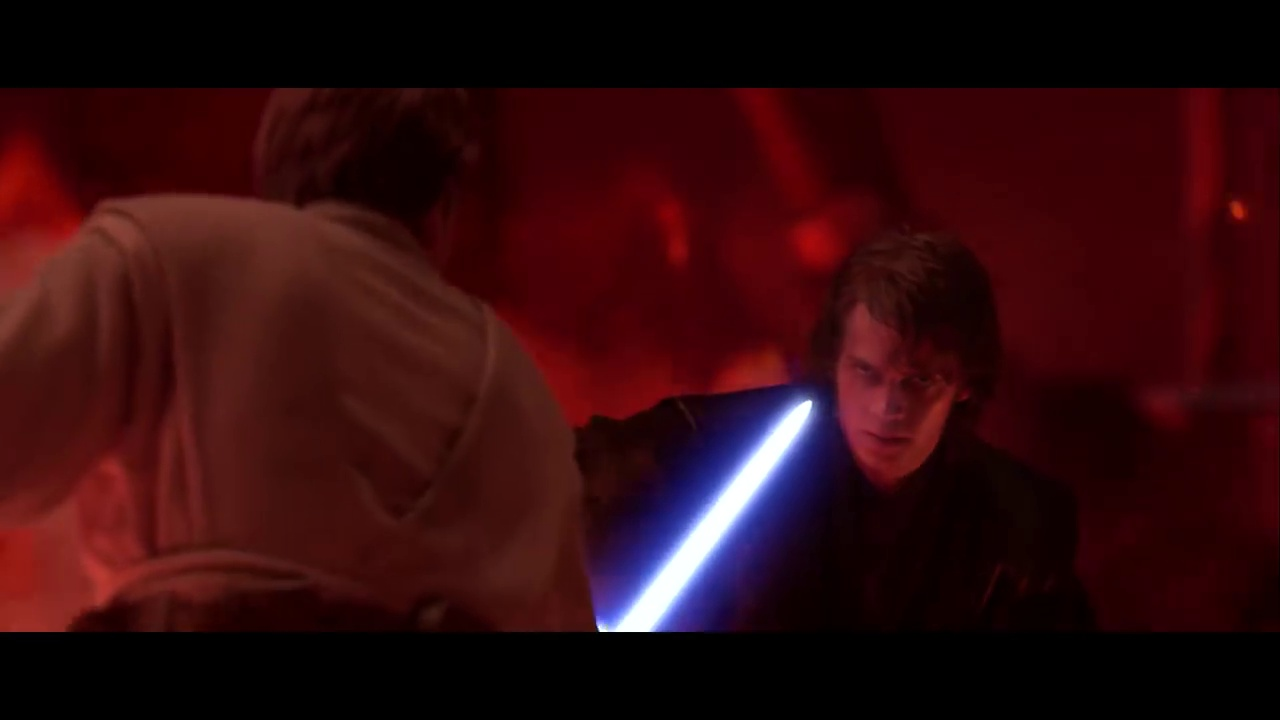lightsaber: (594, 390, 832, 632)
